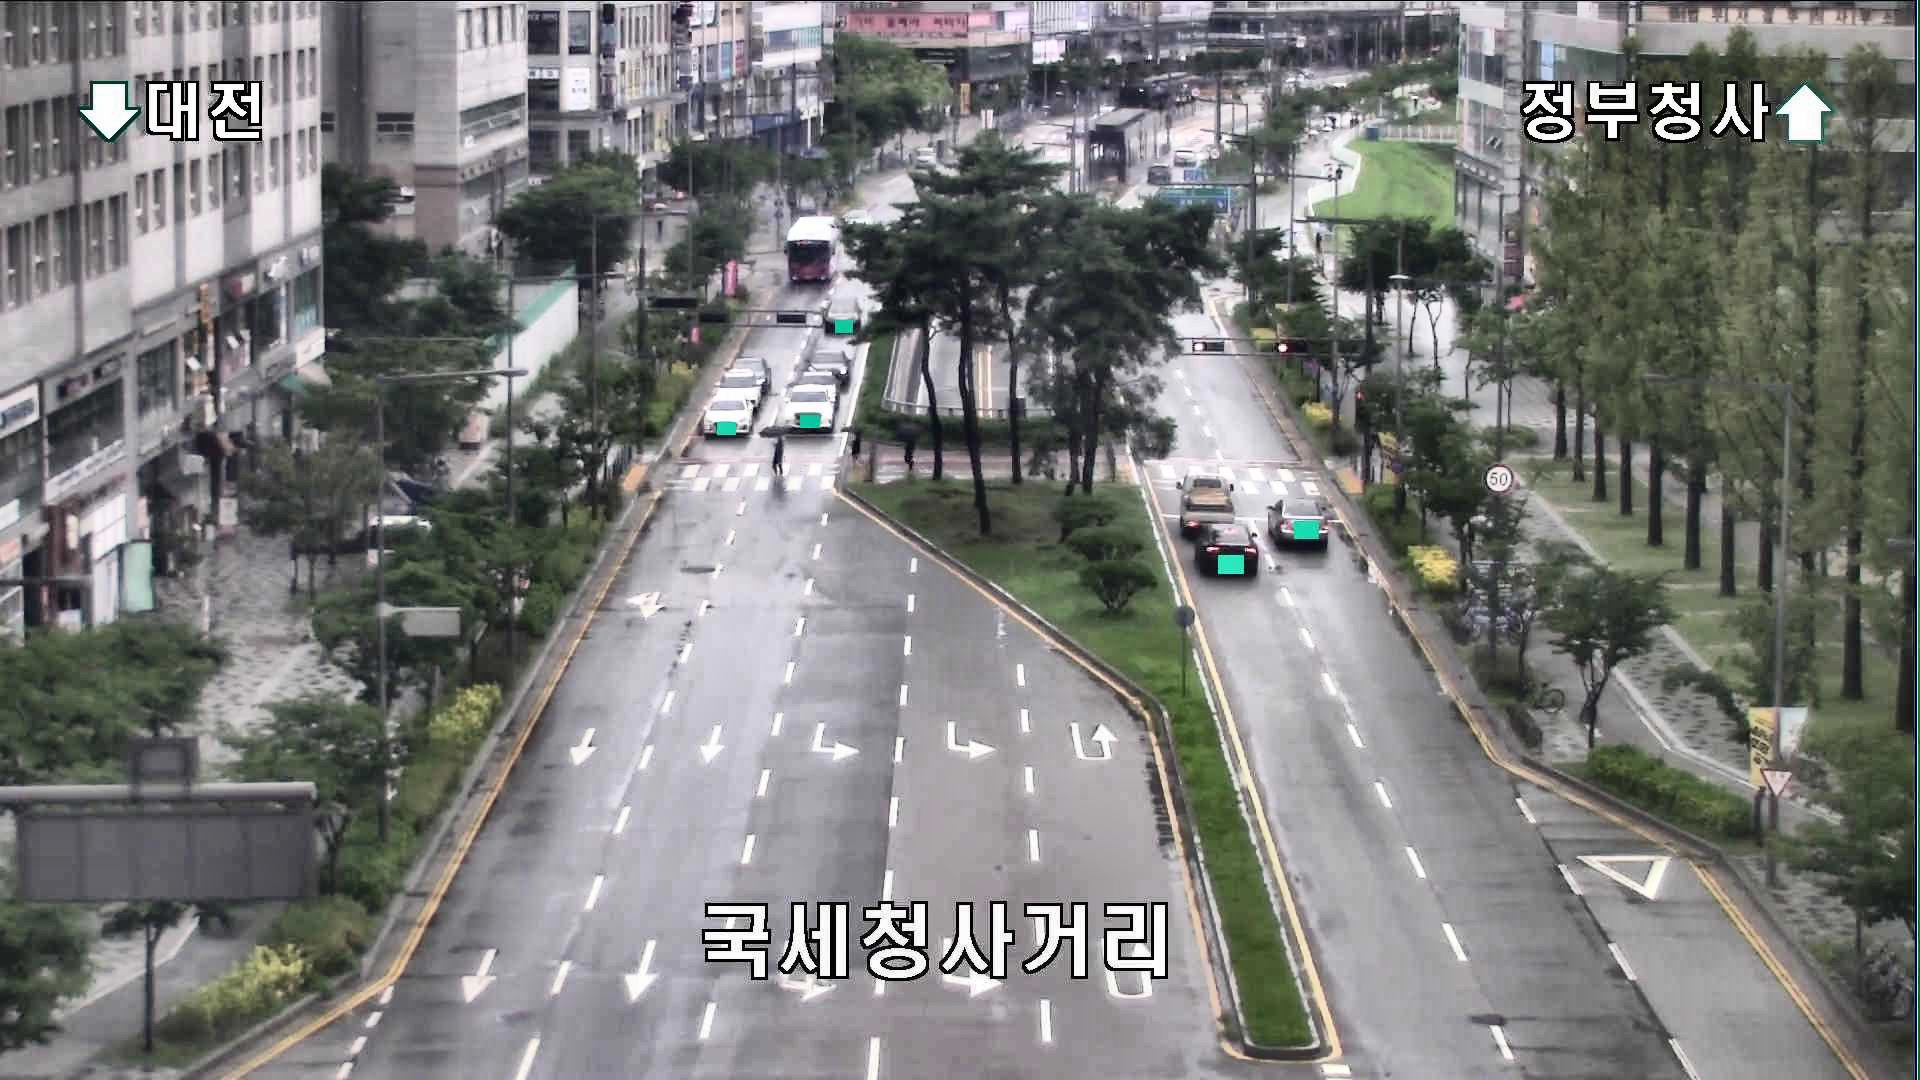um_crosswalk: (760, 426, 795, 473), (893, 422, 924, 473), (843, 426, 869, 468)
